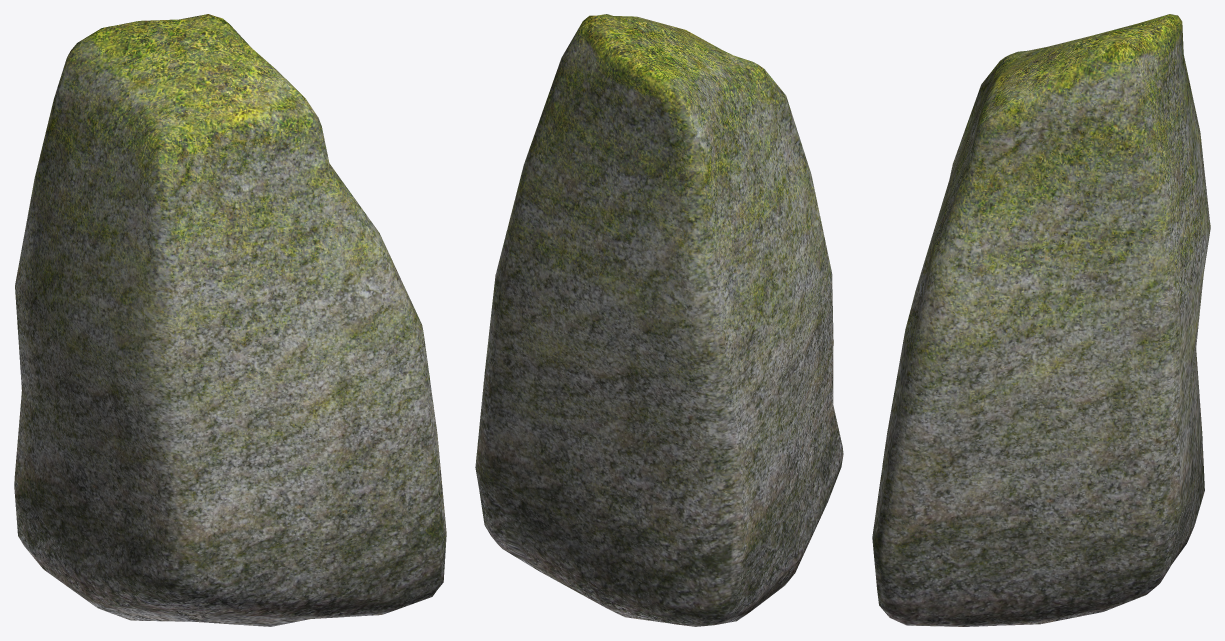
The model's file is Rock 1.glb.
3 views of the same model, side by side, from view 1: azimuth 30°, elevation 25°; view 2: azimuth 150°, elevation 25°; view 3: azimuth 270°, elevation 25° (orthographic). The views are drawn at different scales.
Visible parts, largest first — view 1: LowPoly; view 2: LowPoly; view 3: LowPoly.
Part boxes in pixels (x1,y1,x2,y2): LowPoly: [14, 14, 446, 626]; LowPoly: [475, 14, 843, 626]; LowPoly: [872, 14, 1210, 626].
Size of the model in its own units: 8.36 by 15.64 by 8.39.
1 material, 1 textured.
